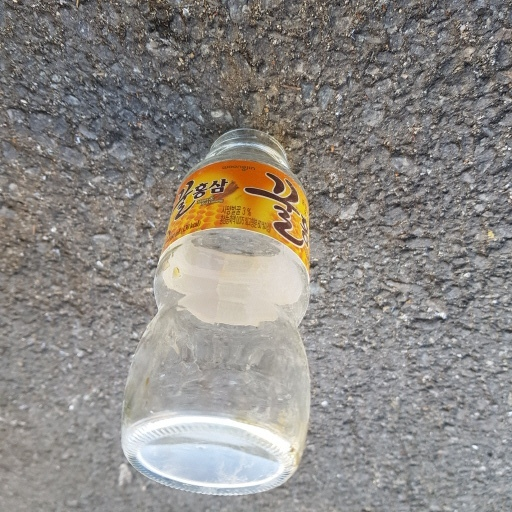Glass_4: (113, 125, 313, 492)
